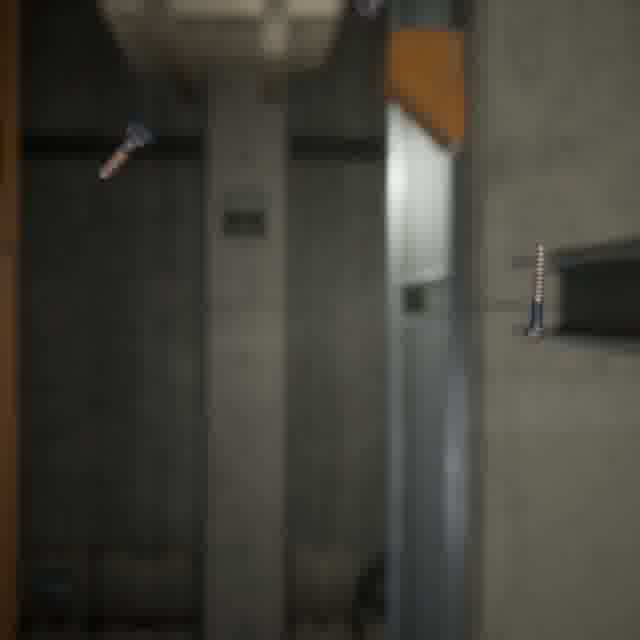bolt: (94, 118, 157, 184), (519, 237, 552, 344), (349, 0, 400, 25)
